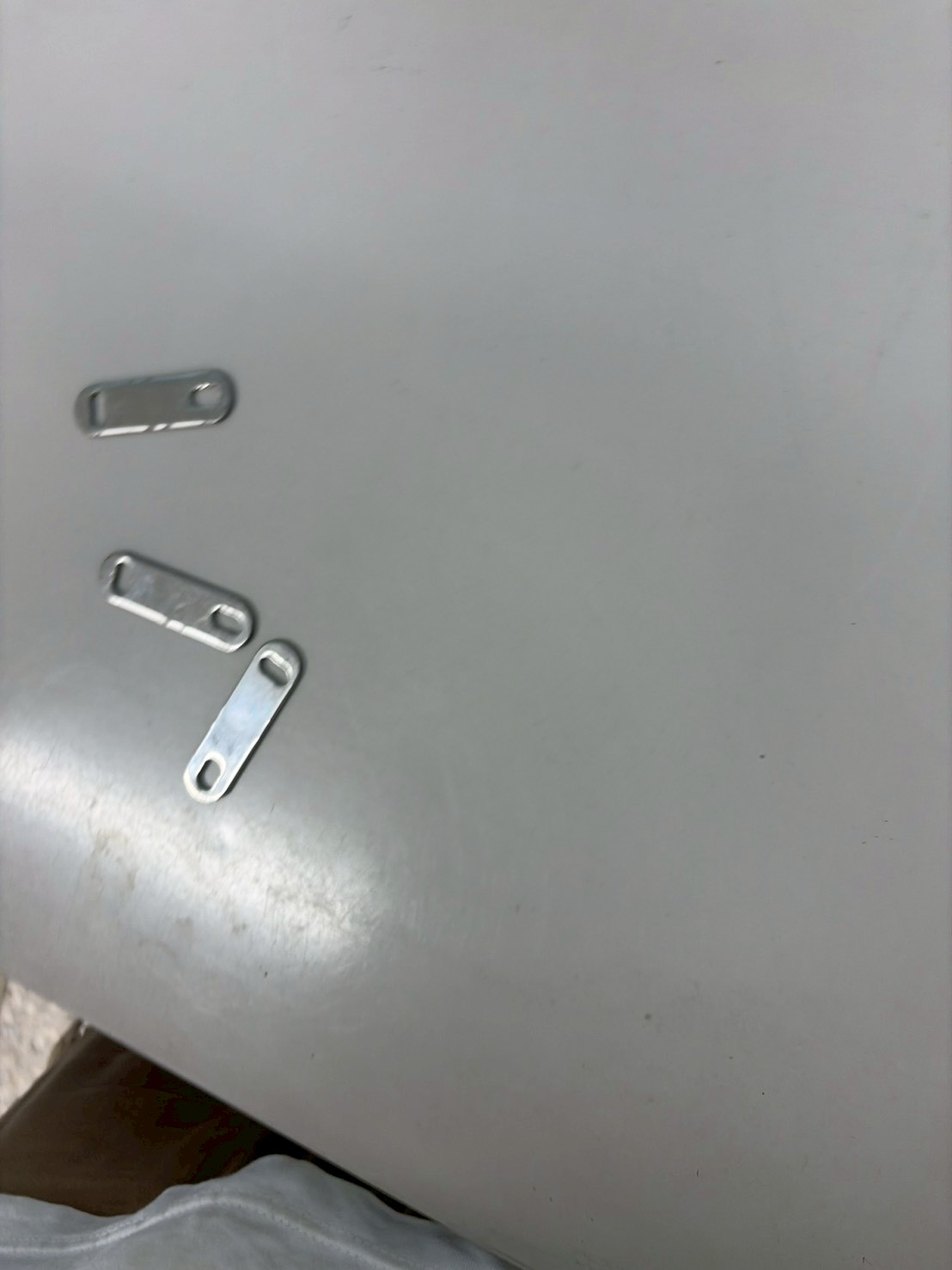Fe: (251, 360, 315, 550), (76, 591, 137, 775), (272, 628, 324, 818)
